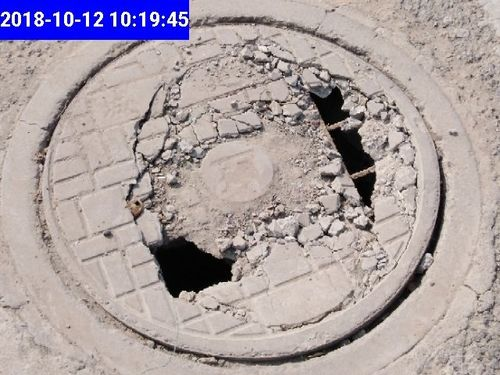broke: (25, 25, 463, 355)
